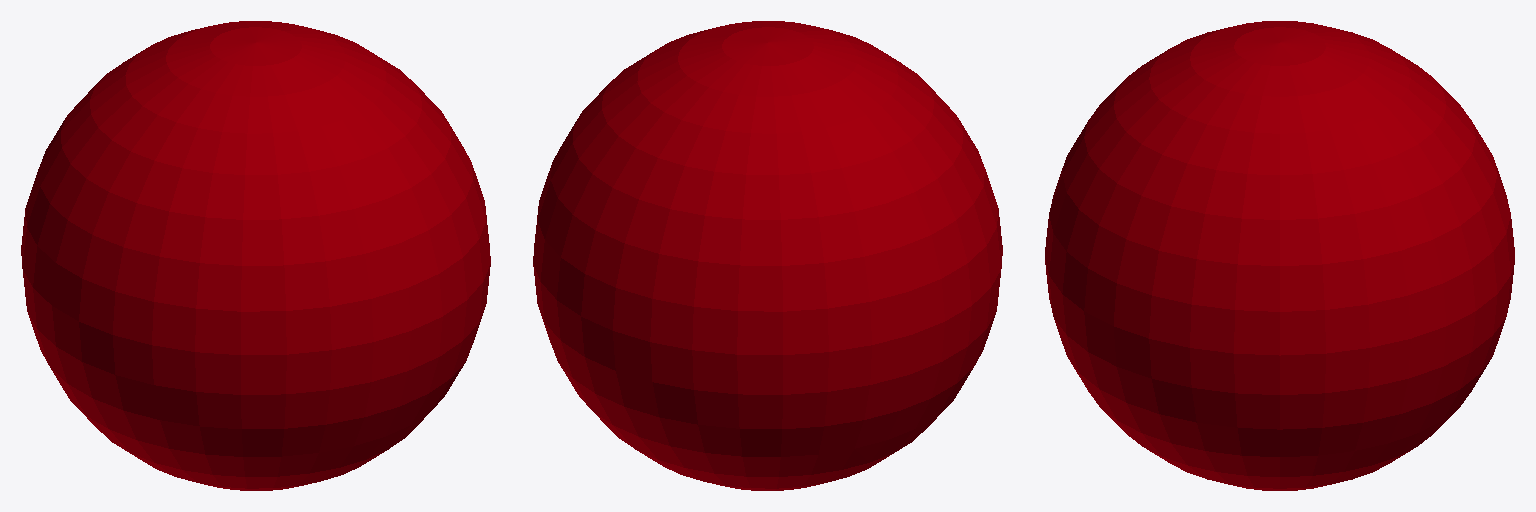
Rendered from ball_19.07.14.obj.
3 views of the same model, side by side, from view 1: azimuth 30°, elevation 25°; view 2: azimuth 150°, elevation 25°; view 3: azimuth 270°, elevation 25° (orthographic).
Bounding box in the file's own units: 0.152 × 0.152 × 0.152.